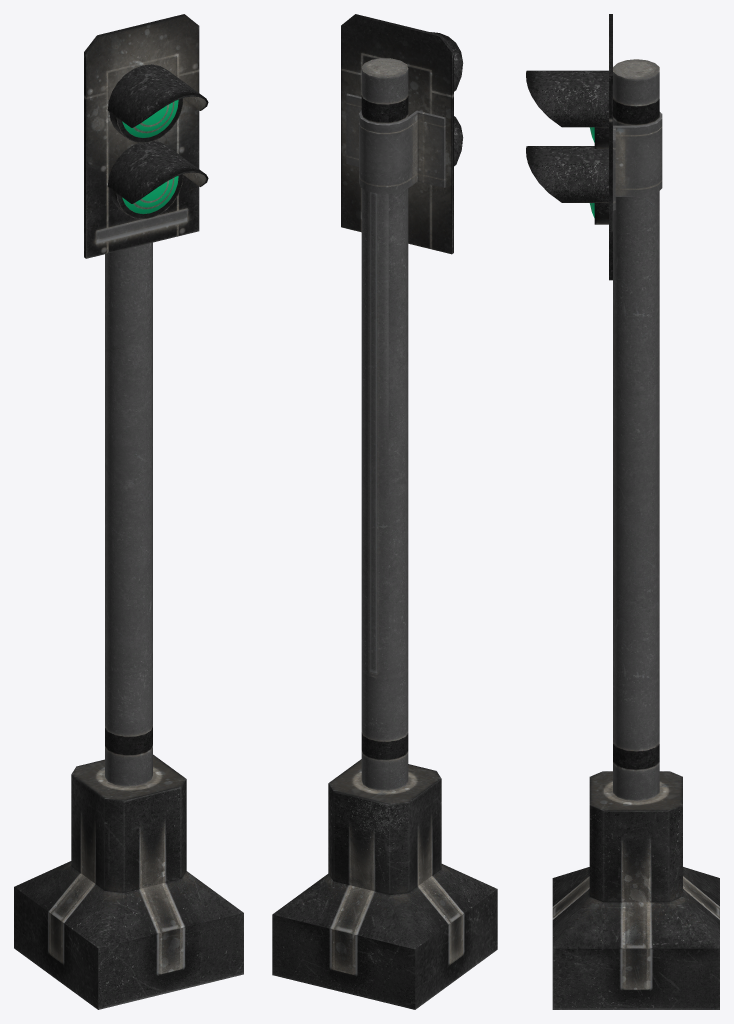
The model's file is SM_SignalLightFull.FBX.
The picture shows the model from 3 angles, left to right: view 1: azimuth 30°, elevation 25°; view 2: azimuth 150°, elevation 25°; view 3: azimuth 270°, elevation 25°; orthographic projection.
Visible parts, largest first — view 1: SM_SignalLightFull; view 2: SM_SignalLightFull; view 3: SM_SignalLightFull.
Part boxes in pixels (left/top/right/bottom): SM_SignalLightFull: left=14, top=14, right=243, bottom=1009; SM_SignalLightFull: left=272, top=14, right=497, bottom=1009; SM_SignalLightFull: left=526, top=14, right=719, bottom=1009.
Bounding box in the file's own units: 64.26 × 74.54 × 399.
